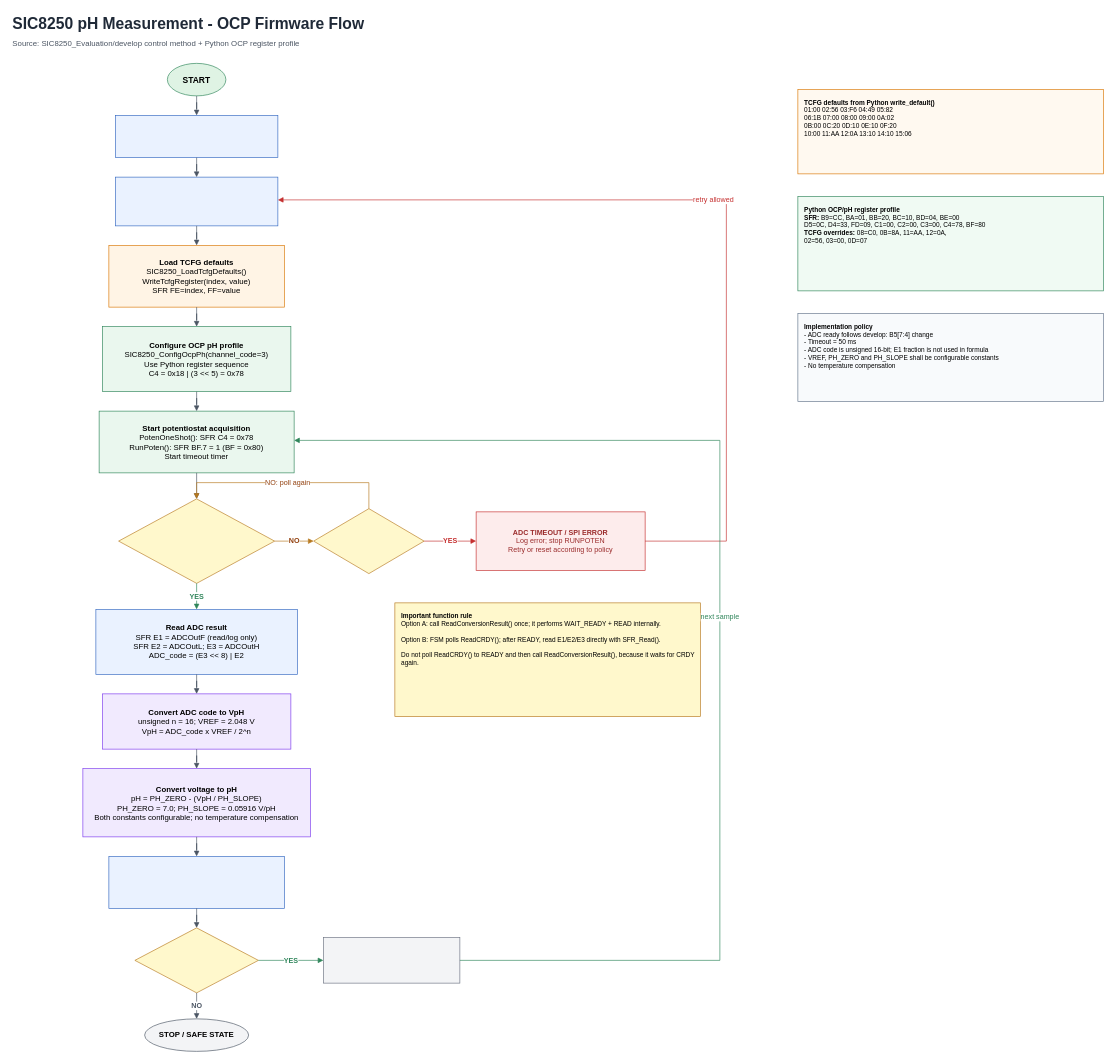
The diagram is 1115 pixels wide and 1063 high, and some of its shapes have lost their labels. Each missing label, with the centre of its shape:
ADC conversion ready? ReadCRDY(): read SFR B5 B5[7:4] != previous B5[7:4]: the point at 196,540
Continue sampling?: the point at 196,960
Elapsed > 50 ms?: the point at 368,541
Initialize interface SIC8250MPW1_Init() SPI/SFR communication check: the point at 196,201
Power On SIC8250 VBAT = 3.3 V; wait power stable: the point at 196,136
Publish/store sample ADC_code, VpH, pH, timestamp, status ph_report_sample(): the point at 196,882
Wait sample period default 500 ms (configurable): the point at 391,960
